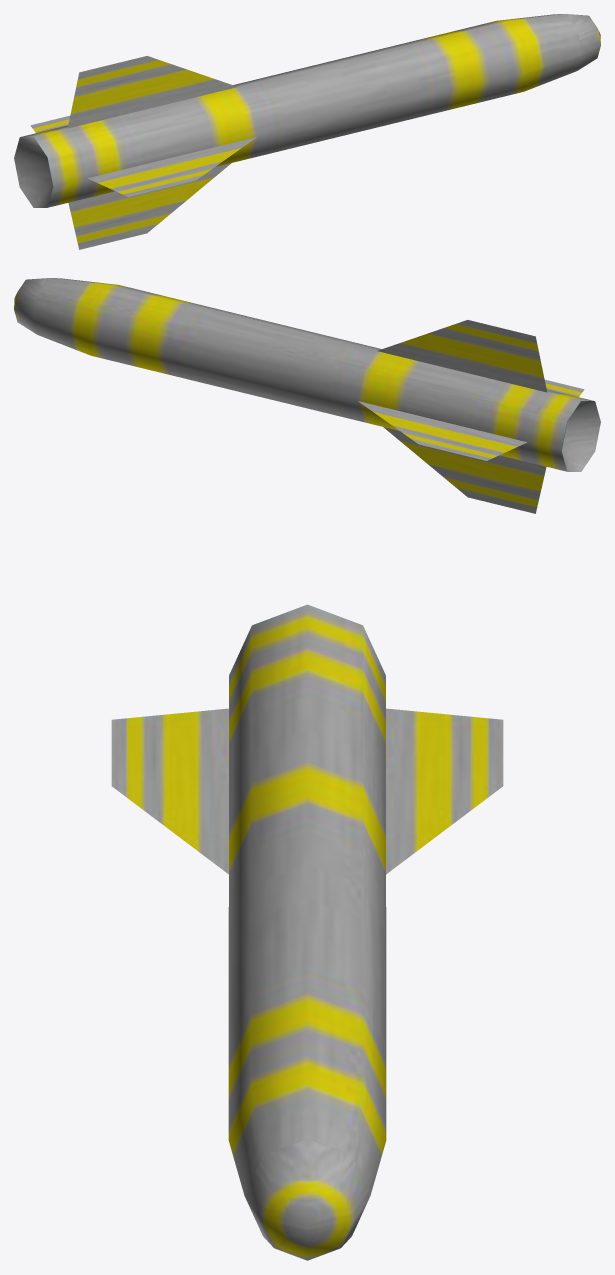
The model's file is forma01.obj.
3 views of the same model, one above another, from view 1: azimuth 30°, elevation 25°; view 2: azimuth 150°, elevation 25°; view 3: azimuth 270°, elevation 25° (orthographic). The views are drawn at different scales.
Parts seen in each view (by area): view 1: object; view 2: object; view 3: object.
Part boxes in pixels (x1,y1,x2,y2): object: (14, 14, 600, 249); object: (14, 278, 600, 513); object: (111, 604, 503, 1260).
Size of the model in its own units: 50 by 14.97 by 14.97.
Materials: 1 (1 with a texture image).
